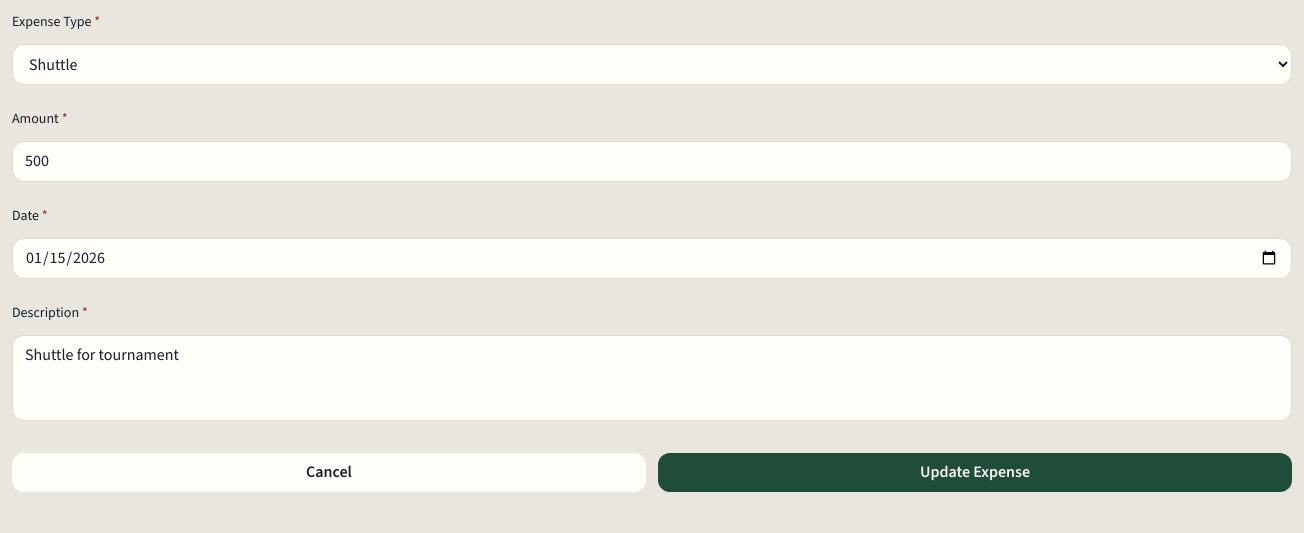
Scenario: AddExpenseForm - Edit Mode › Edit Mode - Form Submission › validates updated form data before submission
This screenshot has width=1304, height=533.
Note: Change to invalid value (0 or less)
Replace the text in the number field labelled "Amount *" with "0" at x=652, y=161, box [12, 141, 1292, 182]
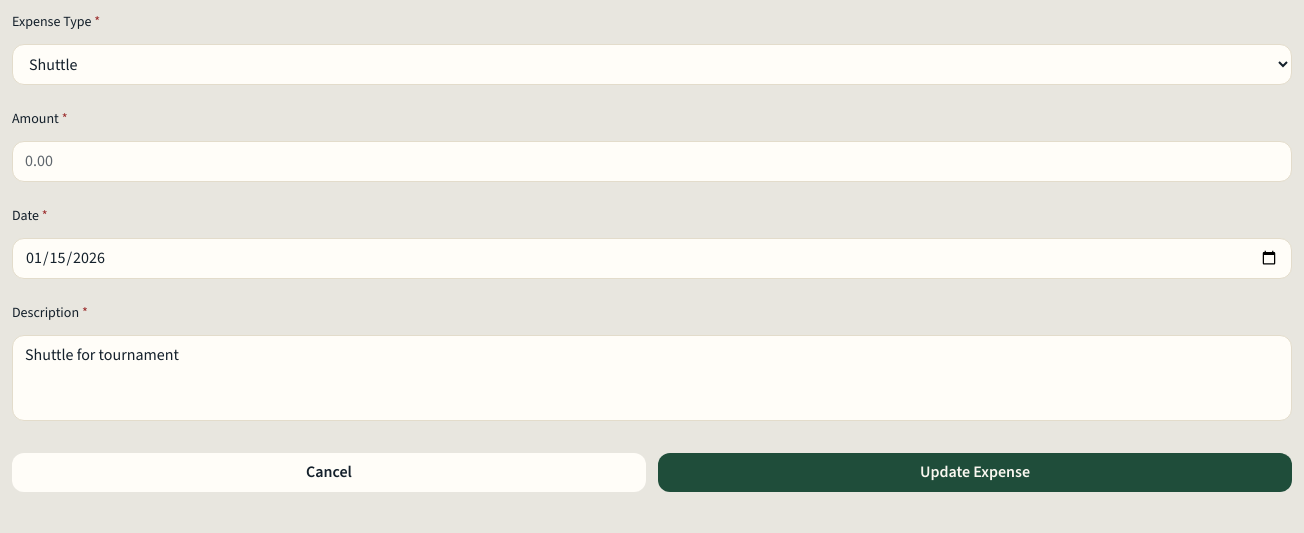
Click the button "Update Expense" at x=975, y=473, box [658, 453, 1292, 492]
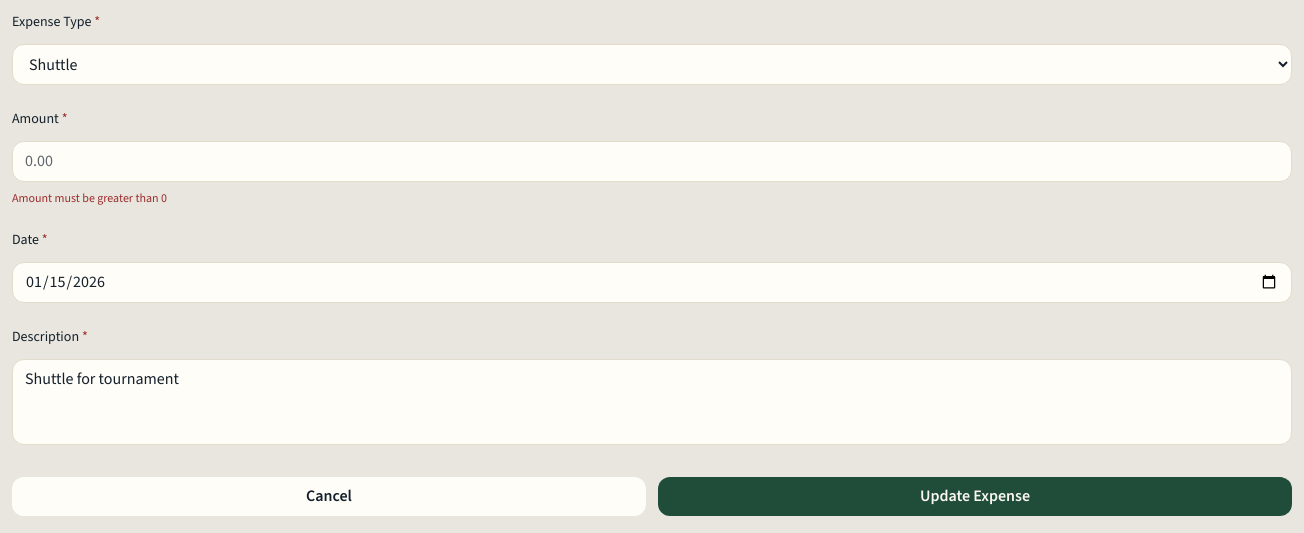
Result: the text "Amount must be greater than 0" is shown at [12, 190, 167, 206]
